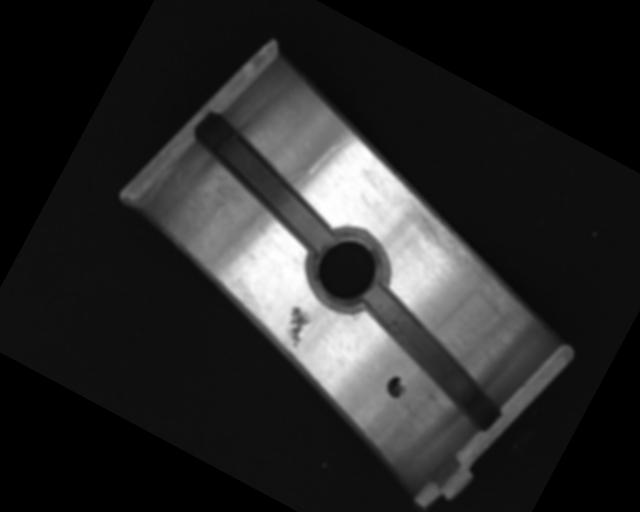blot: (381, 373, 409, 402)
bruise: (275, 303, 316, 349)
gap: (337, 280, 529, 435), (173, 109, 356, 254)
hole: (297, 217, 401, 318)
nick: (309, 122, 360, 185)
scratch: (375, 189, 546, 325)
